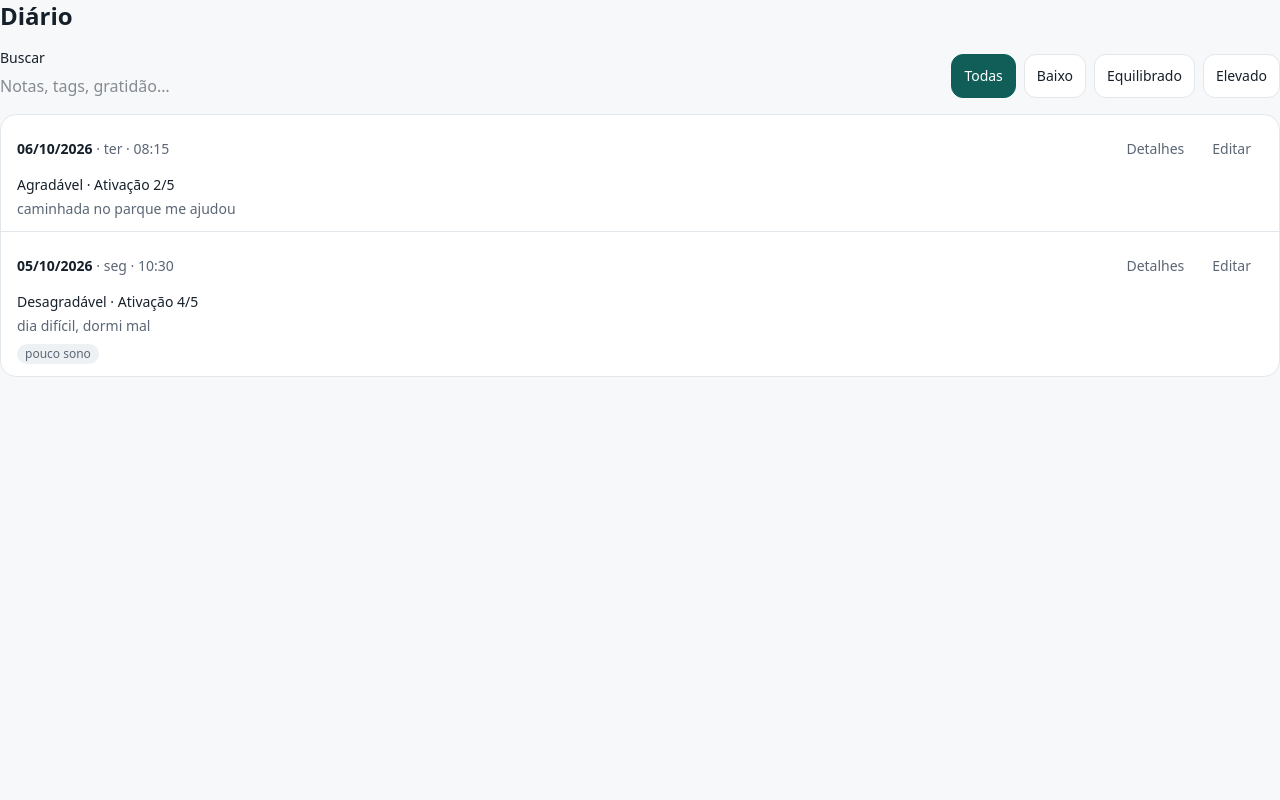
Test: JournalPage › abre o detalhe do registro pelo feed
Click the button with aria-label "Detalhes do registro das 08:15 em 06/10/2026" at (1155, 149), box [1114,127,1196,171]
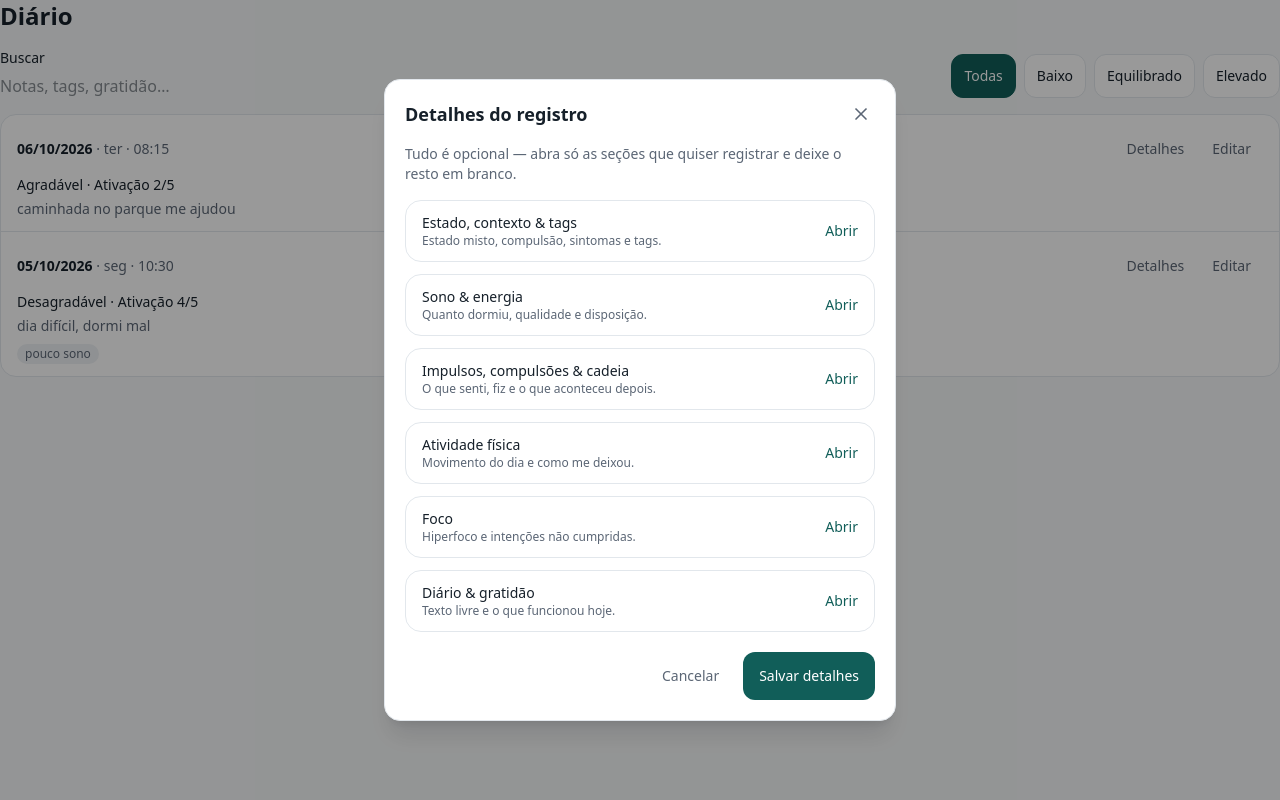
Check: the text "Tudo é opcional" is shown, box [405,144,841,183]
